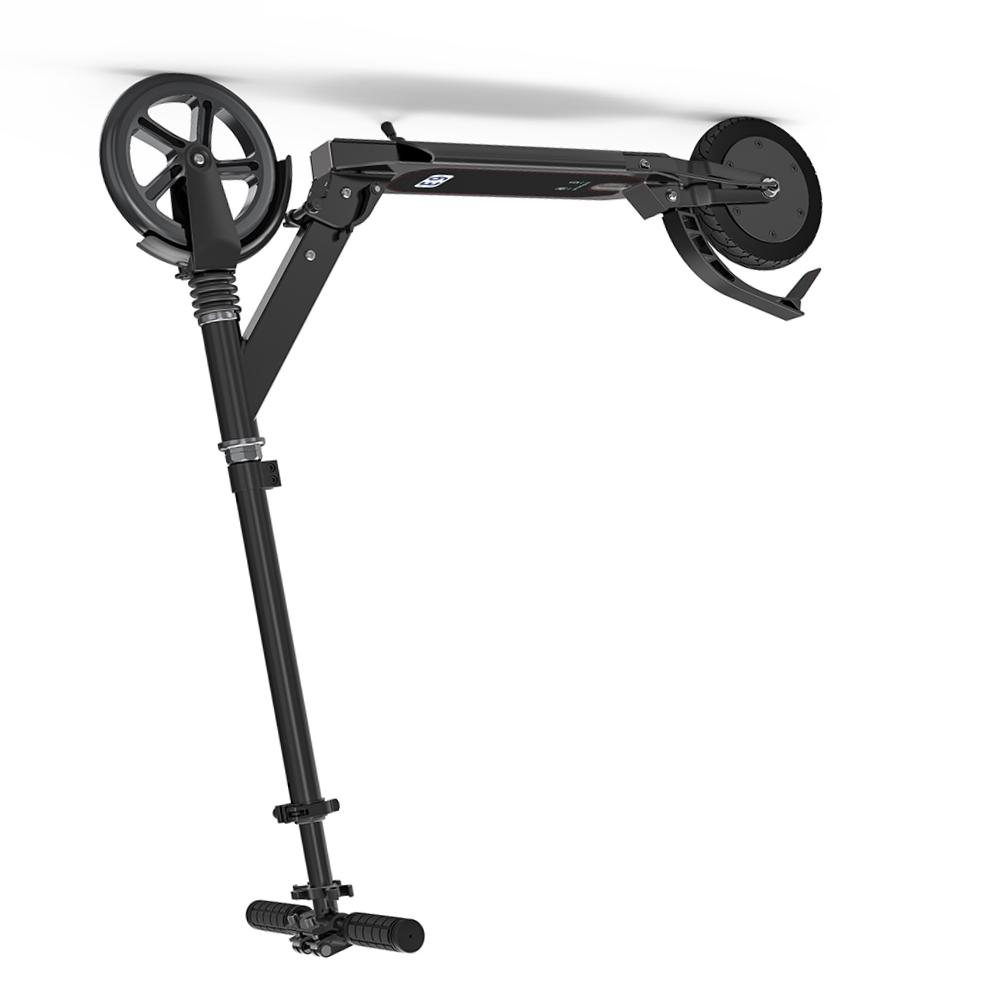scooter: (98, 72, 823, 960)
